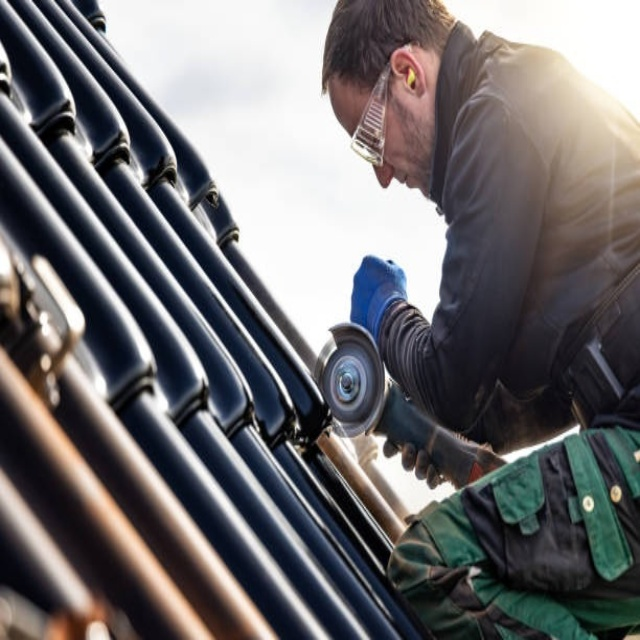Gafas: (353, 48, 406, 170)
Guantes: (349, 248, 409, 344)
Sin_mascara: (391, 169, 426, 204)
